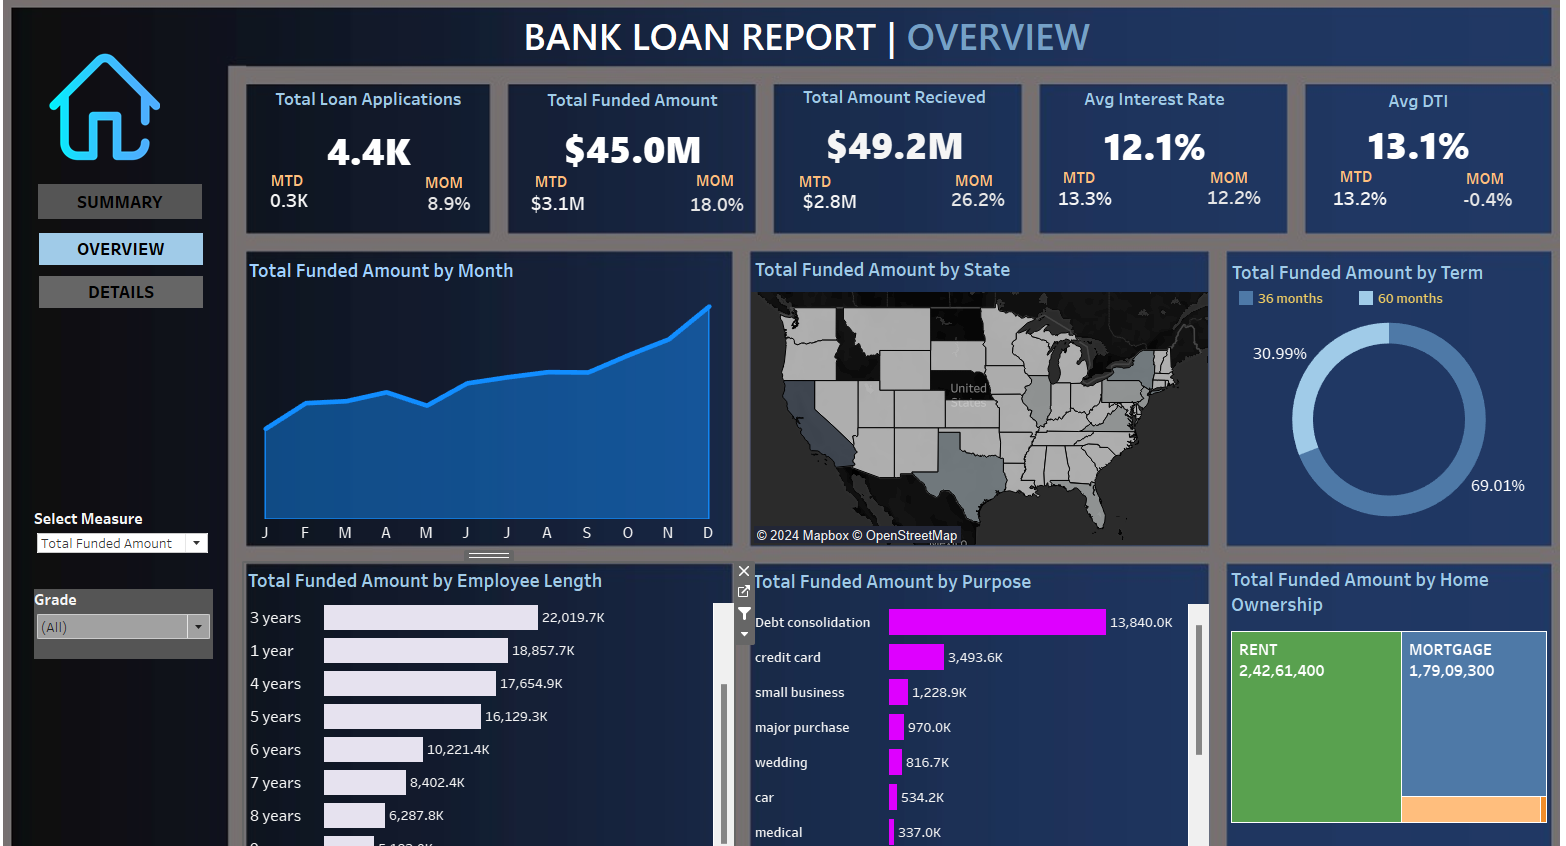

What the dashboard file says about the page in this screenshot:
{"tool":"tableau","page":{"name":"Overview ","canvas":[1600,900],"ordinal":1},"visuals":[{"type":"image","param":"C:/Users/Aditya/Downloads/Bank Loan Project-20240720T195334Z-001/Bank Loan Proje","box":[8,8,1584,884]},{"type":"text","box":[538,17,582,64]},{"type":"image","param":"C:/Users/Aditya/Downloads/Data Analyst Project - SQL+PowerBI+Excel-20240715T0830","box":[67,65,154,111]},{"type":"worksheet","title":"Total Amount Recieved","mark":"Automatic","box":[792,94,241,89]},{"type":"worksheet","title":"Total Loan Applications","mark":"Automatic","box":[267,96,239,98]},{"type":"worksheet","title":"Avg Interest Rate","mark":"Automatic","box":[1063,96,219,87]},{"type":"worksheet","title":"Total Funded Amount","mark":"Automatic","box":[527,97,247,91]},{"type":"worksheet","title":"Avg DTI","mark":"Automatic","box":[1322,98,229,80]},{"type":"worksheet","title":"MoM Avg Interest Rate","mark":"Automatic","box":[1172,145,160,131]},{"type":"worksheet","title":"MTD Avg DTI","mark":"Automatic","box":[1299,155,158,114]},{"type":"worksheet","title":"MTD Avg Interest Rate","mark":"Automatic","box":[1038,171,129,82]},{"type":"worksheet","title":"MoM Avg DTI","mark":"Automatic","box":[1442,172,128,82]},{"type":"worksheet","title":"MoM Total Amount Recieved","mark":"Automatic","box":[914,174,164,58]},{"type":"text","box":[271,177,68,34]},{"type":"text","box":[683,179,100,30]},{"type":"text","box":[942,179,100,30]},{"type":"text","box":[1063,179,68,25]},{"type":"text","box":[1197,180,100,23]},{"type":"text","box":[412,181,100,30]},{"type":"text","box":[1453,181,100,23]},{"type":"text","box":[1340,182,68,17]},{"type":"worksheet","title":"MTD Total Funded Amount","mark":"Automatic","box":[528,184,95,66]},{"type":"text","box":[535,187,68,17]},{"type":"text","box":[799,187,68,17]},{"type":"worksheet","title":"MoM Total Funded Amount","mark":"Automatic","box":[697,189,76,58]},{"type":"worksheet","title":"MTD Total Amount Recieved","mark":"Automatic","box":[777,190,142,50]},{"type":"worksheet","title":"MTD Total Loan Applications","mark":"Automatic","box":[277,191,60,46]},{"type":"worksheet","title":"MoM Loan Applications","mark":"Automatic","box":[431,195,71,44]},{"type":"dashboard-object","box":[56,198,164,35]},{"type":"dashboard-object","box":[57,247,164,32]},{"type":"worksheet","title":"State","mark":"Multipolygon","box":[769,266,457,293]},{"type":"worksheet","title":"Month","mark":"Area","rows":["Calculation_3518718726664302635","Calculation_3518718726664302635"],"cols":["issue_date"],"box":[263,267,484,291]},{"type":"worksheet","title":"Term","mark":"Pie","rows":["Calculation_3518718726782738478","Calculation_3518718726782738478"],"box":[1246,269,322,289]},{"type":"dashboard-object","box":[57,290,164,32]},{"type":"legend","title":"Term","param":"[federated.1tk5doa08u8syg17at9a50izewui].[none:term:nk]","box":[1254,302,258,28]},{"type":"parameter","param":"[Parameters].[Parameter 1]","box":[52,522,177,64]},{"type":"worksheet","title":"Home Own","mark":"Automatic","box":[1245,576,323,302]},{"type":"worksheet","title":"Employee length","mark":"Automatic","rows":["emp_length"],"cols":["Calculation_3518718726664302635"],"box":[262,577,490,302]},{"type":"worksheet","title":"Purpose","mark":"Automatic","rows":["purpose"],"cols":["Calculation_3518718726664302635"],"box":[767,578,460,304]},{"type":"filter","title":"Avg DTI","param":"[federated.1tk5doa08u8syg17at9a50izewui].[none:grade:nk]","box":[52,603,179,70]}]}

Visuals, with their boxes on the page's 1600x900 design canvas (x1, y1, x2, y2). These are canvas units, not pixel positions in the 1566x846 screenshot, which may show the page scaled, cropped or inside an application window:
image: 8, 8, 1592, 892
text: 538, 17, 1120, 81
image: 67, 65, 221, 176
"Total Amount Recieved" worksheet: 792, 94, 1033, 183
"Total Loan Applications" worksheet: 267, 96, 506, 194
"Avg Interest Rate" worksheet: 1063, 96, 1282, 183
"Total Funded Amount" worksheet: 527, 97, 774, 188
"Avg DTI" worksheet: 1322, 98, 1551, 178
"MoM Avg Interest Rate" worksheet: 1172, 145, 1332, 276
"MTD Avg DTI" worksheet: 1299, 155, 1457, 269
"MTD Avg Interest Rate" worksheet: 1038, 171, 1167, 253
"MoM Avg DTI" worksheet: 1442, 172, 1570, 254
"MoM Total Amount Recieved" worksheet: 914, 174, 1078, 232
text: 271, 177, 339, 211
text: 683, 179, 783, 209
text: 942, 179, 1042, 209
text: 1063, 179, 1131, 204
text: 1197, 180, 1297, 203
text: 412, 181, 512, 211
text: 1453, 181, 1553, 204
text: 1340, 182, 1408, 199
"MTD Total Funded Amount" worksheet: 528, 184, 623, 250
text: 535, 187, 603, 204
text: 799, 187, 867, 204
"MoM Total Funded Amount" worksheet: 697, 189, 773, 247
"MTD Total Amount Recieved" worksheet: 777, 190, 919, 240
"MTD Total Loan Applications" worksheet: 277, 191, 337, 237
"MoM Loan Applications" worksheet: 431, 195, 502, 239
dashboard-object: 56, 198, 220, 233
dashboard-object: 57, 247, 221, 279
"State" worksheet (Multipolygon marks): 769, 266, 1226, 559
"Month" worksheet (Area marks): 263, 267, 747, 558
"Term" worksheet (Pie marks): 1246, 269, 1568, 558
dashboard-object: 57, 290, 221, 322
"Term" legend: 1254, 302, 1512, 330
parameter: 52, 522, 229, 586
"Home Own" worksheet: 1245, 576, 1568, 878
"Employee length" worksheet: 262, 577, 752, 879
"Purpose" worksheet: 767, 578, 1227, 882
"Avg DTI" filter: 52, 603, 231, 673
